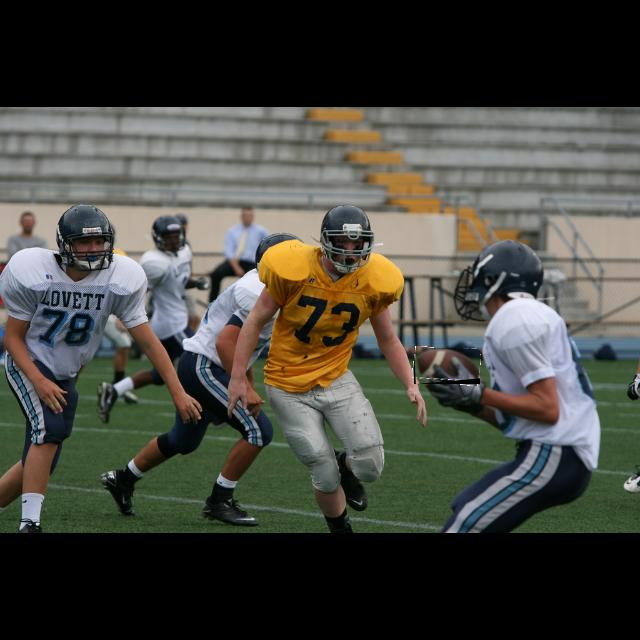Football: (414, 348, 480, 384)
